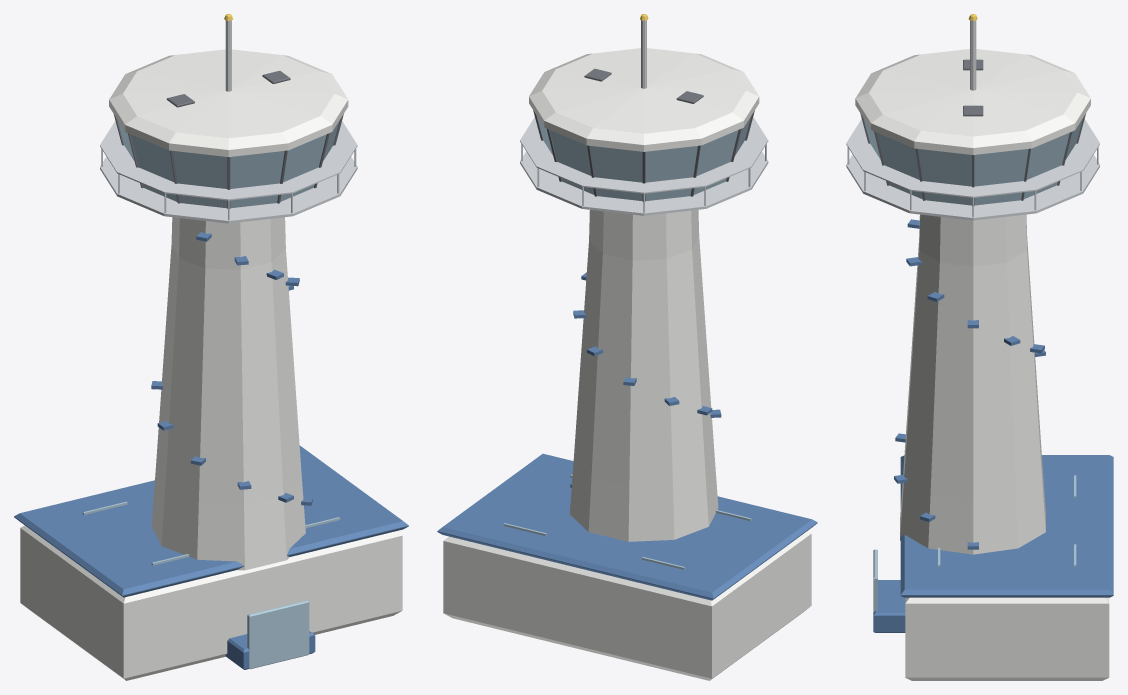
File: tower.glb
3 views of the same model, side by side, from view 1: azimuth 30°, elevation 25°; view 2: azimuth 150°, elevation 25°; view 3: azimuth 270°, elevation 25° (orthographic). The views are drawn at different scales.
Parts seen in each view (by area): view 1: control-tower; view 2: control-tower; view 3: control-tower.
Boxes of the visible parts, bbox=[...] form: control-tower: bbox=[14, 14, 408, 680]; control-tower: bbox=[437, 14, 817, 680]; control-tower: bbox=[846, 14, 1113, 680].
Bounding box in the file's own units: 14.4 × 29.32 × 11.8.
